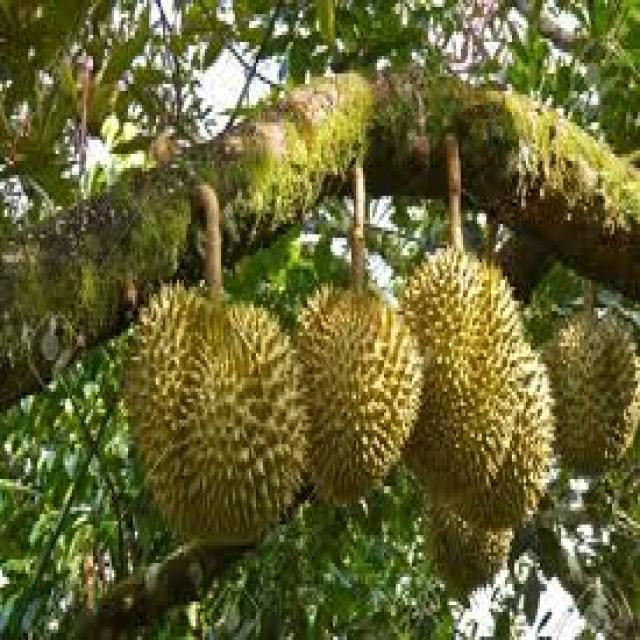mature: (128, 284, 306, 543), (404, 250, 526, 501), (299, 287, 421, 501)
